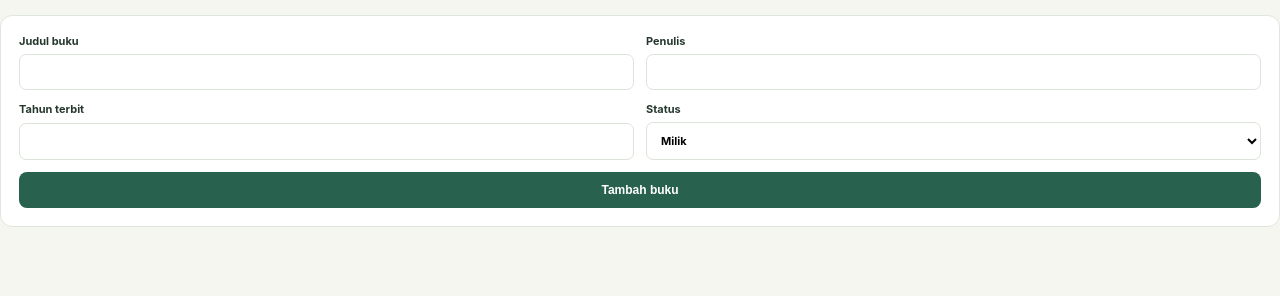
menolak tahun yang tidak valid
The width and height of the screenshot is (1280, 296).
Type "Dune" into the field labelled "Judul buku" at point(326, 72), box left=19, top=54, right=634, bottom=90
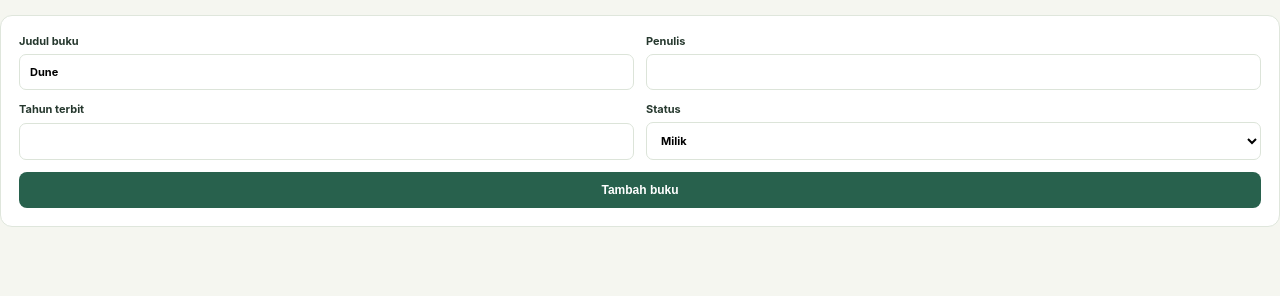
Type "Frank" into the field labelled "Penulis" at point(954, 72), box left=646, top=54, right=1261, bottom=90
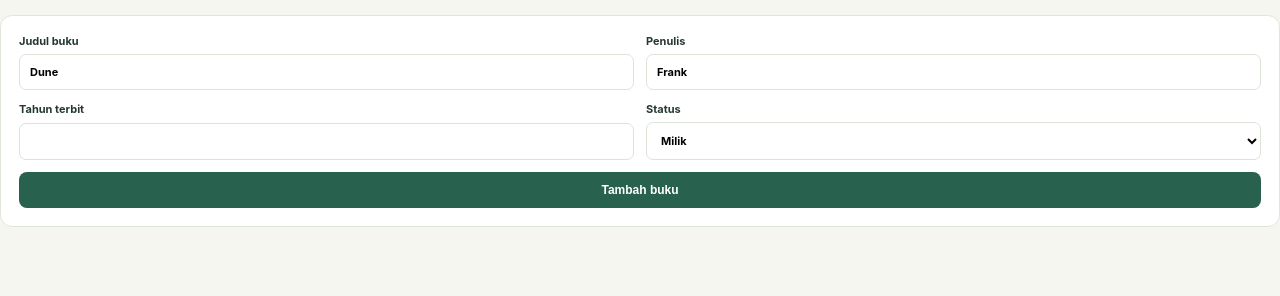
Type "3000" into the number field labelled "Tahun terbit" at point(326, 142), box left=19, top=123, right=634, bottom=160
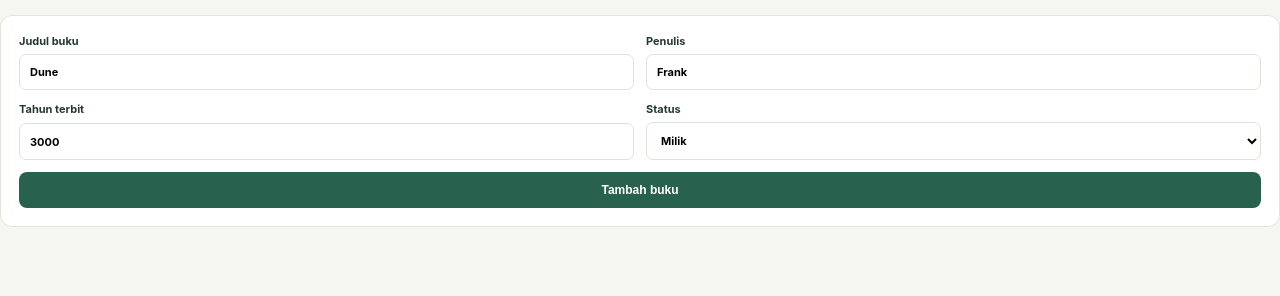
Click the button "Tambah buku" at point(640, 190), box left=19, top=172, right=1261, bottom=208
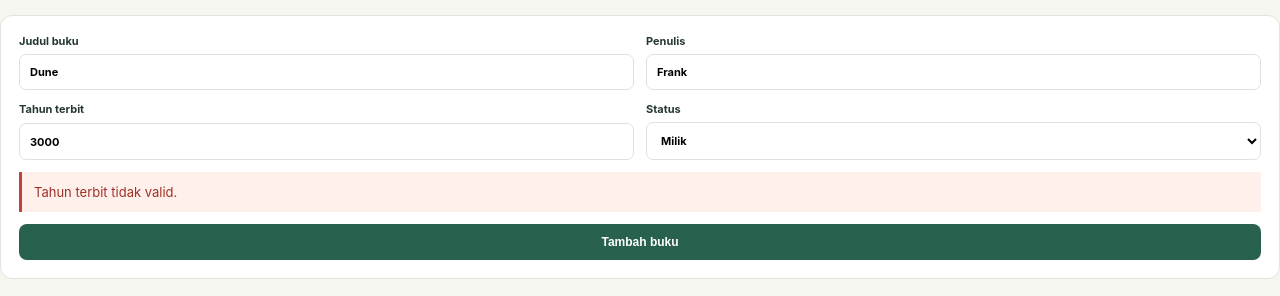
Expected: the message shows "Tahun terbit tidak valid", left=34, top=184, right=177, bottom=200
